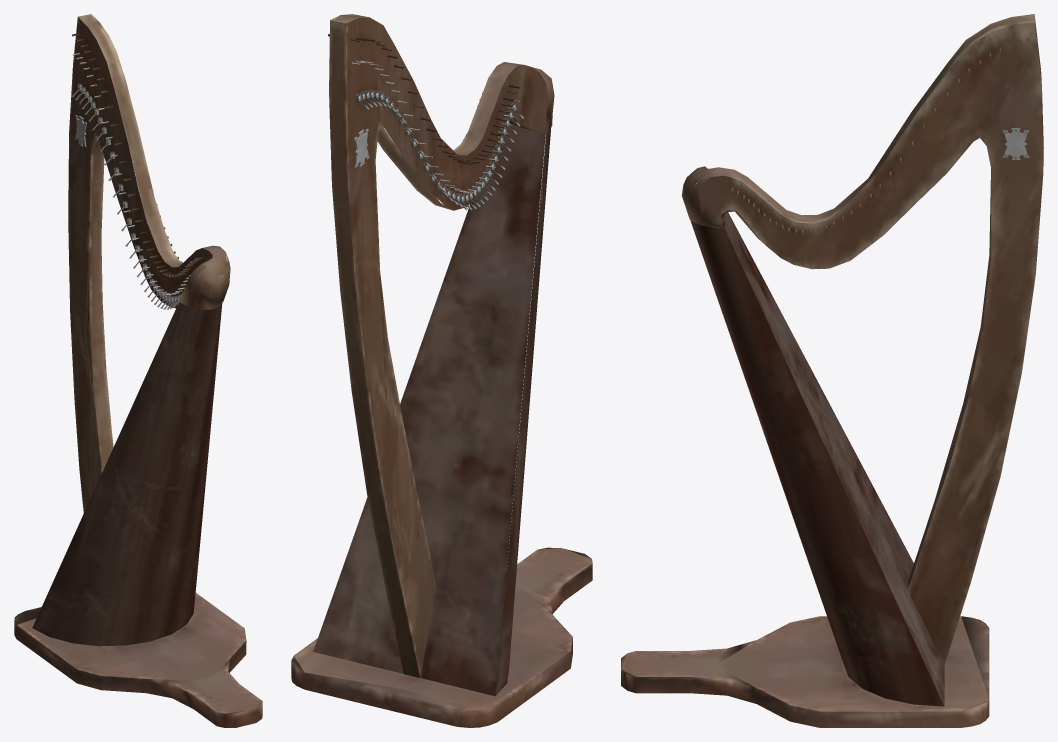
File: obj_harp.glb
3 renders of one model, left to right at view 1: azimuth 30°, elevation 25°; view 2: azimuth 150°, elevation 25°; view 3: azimuth 270°, elevation 25°, orthographic. The views are drawn at different scales.
Visible parts, largest first — view 1: Object_4; view 2: Object_4; view 3: Object_4.
Part boxes in pixels (x1=…): Object_4: x1=14, y1=14, x2=262, y2=727; Object_4: x1=291, y1=14, x2=592, y2=727; Object_4: x1=621, y1=14, x2=1043, y2=727.
Size of the model in its own units: 0.4875 by 1.6 by 0.9128.
Materials: 1 (1 with a texture image).
